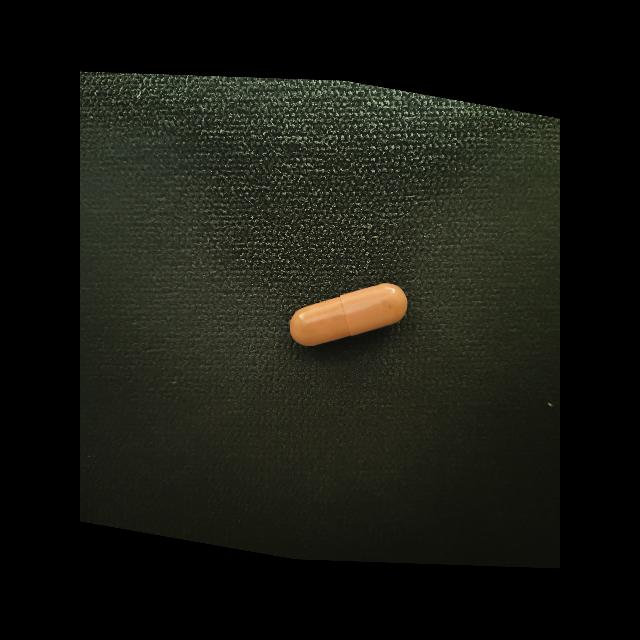Intact Capsule: (290, 283, 408, 346)
